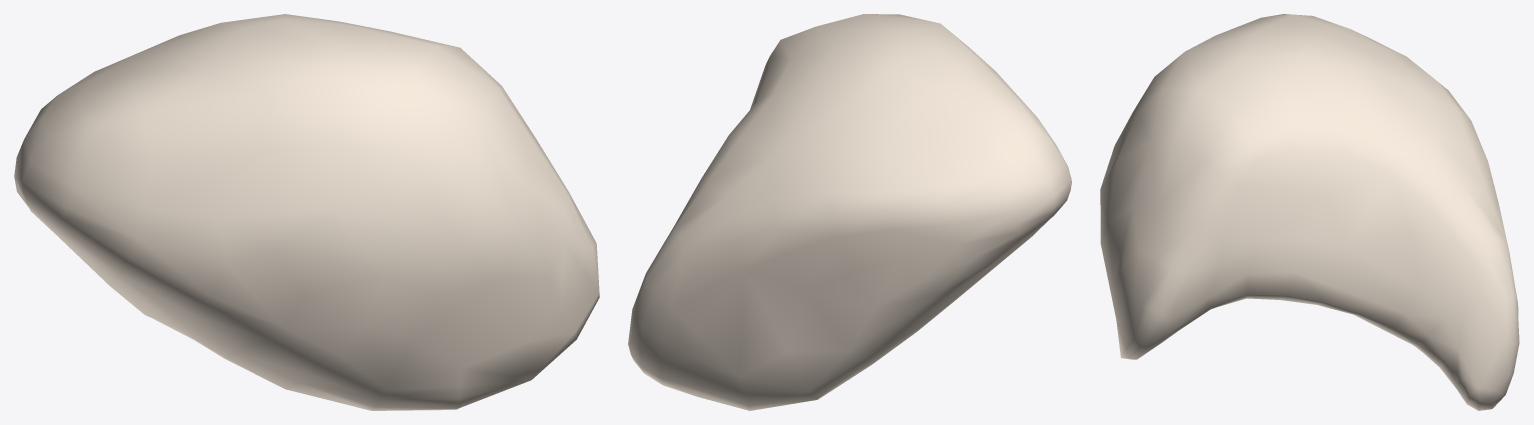
Rendered from left_lunate.glb.
3 views of the same model, side by side, from view 1: azimuth 30°, elevation 25°; view 2: azimuth 150°, elevation 25°; view 3: azimuth 270°, elevation 25° (orthographic). The views are drawn at different scales.
Parts seen in each view (by area): view 1: Lunate bone.r; view 2: Lunate bone.r; view 3: Lunate bone.r.
Part boxes in pixels (box(x1,y1,x2,y2)): Lunate bone.r: box(14, 14, 599, 410); Lunate bone.r: box(628, 14, 1071, 410); Lunate bone.r: box(1100, 14, 1519, 410).
Size of the model in its own units: 0.0165 by 0.0128 by 0.0157.
